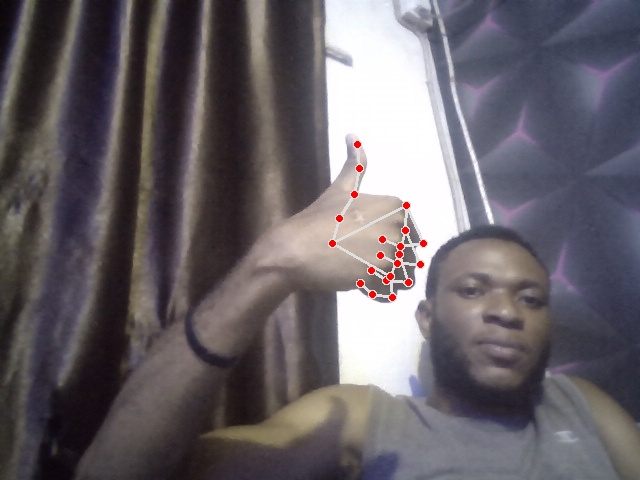thumbsup: (294, 135, 426, 304)
